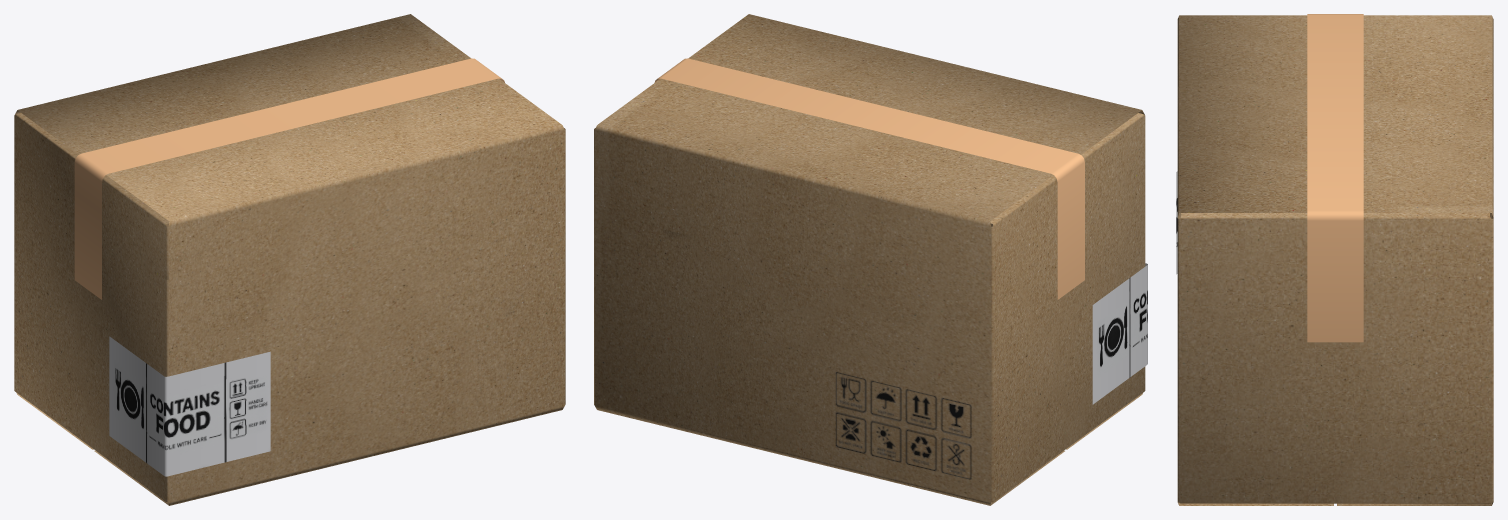
The model's file is Kardus.fbx.
The picture shows the model from 3 angles, left to right: view 1: azimuth 30°, elevation 25°; view 2: azimuth 150°, elevation 25°; view 3: azimuth 270°, elevation 25°; orthographic projection. The views are drawn at different scales.
Parts seen in each view (by area): view 1: Kardus; view 2: Kardus; view 3: Kardus.
Part boxes in pixels (left/top/right/bottom): Kardus: left=14, top=14, right=565, bottom=505; Kardus: left=594, top=14, right=1147, bottom=505; Kardus: left=1176, top=14, right=1493, bottom=505.
Size of the model in its own units: 60.61 by 41.11 by 40.12.
1 material, 1 textured.
